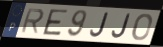9: (65, 8, 88, 38)
E: (42, 9, 70, 37)
J: (110, 13, 132, 40), (89, 12, 110, 38)
O: (131, 13, 153, 42)
R: (19, 8, 46, 35)
